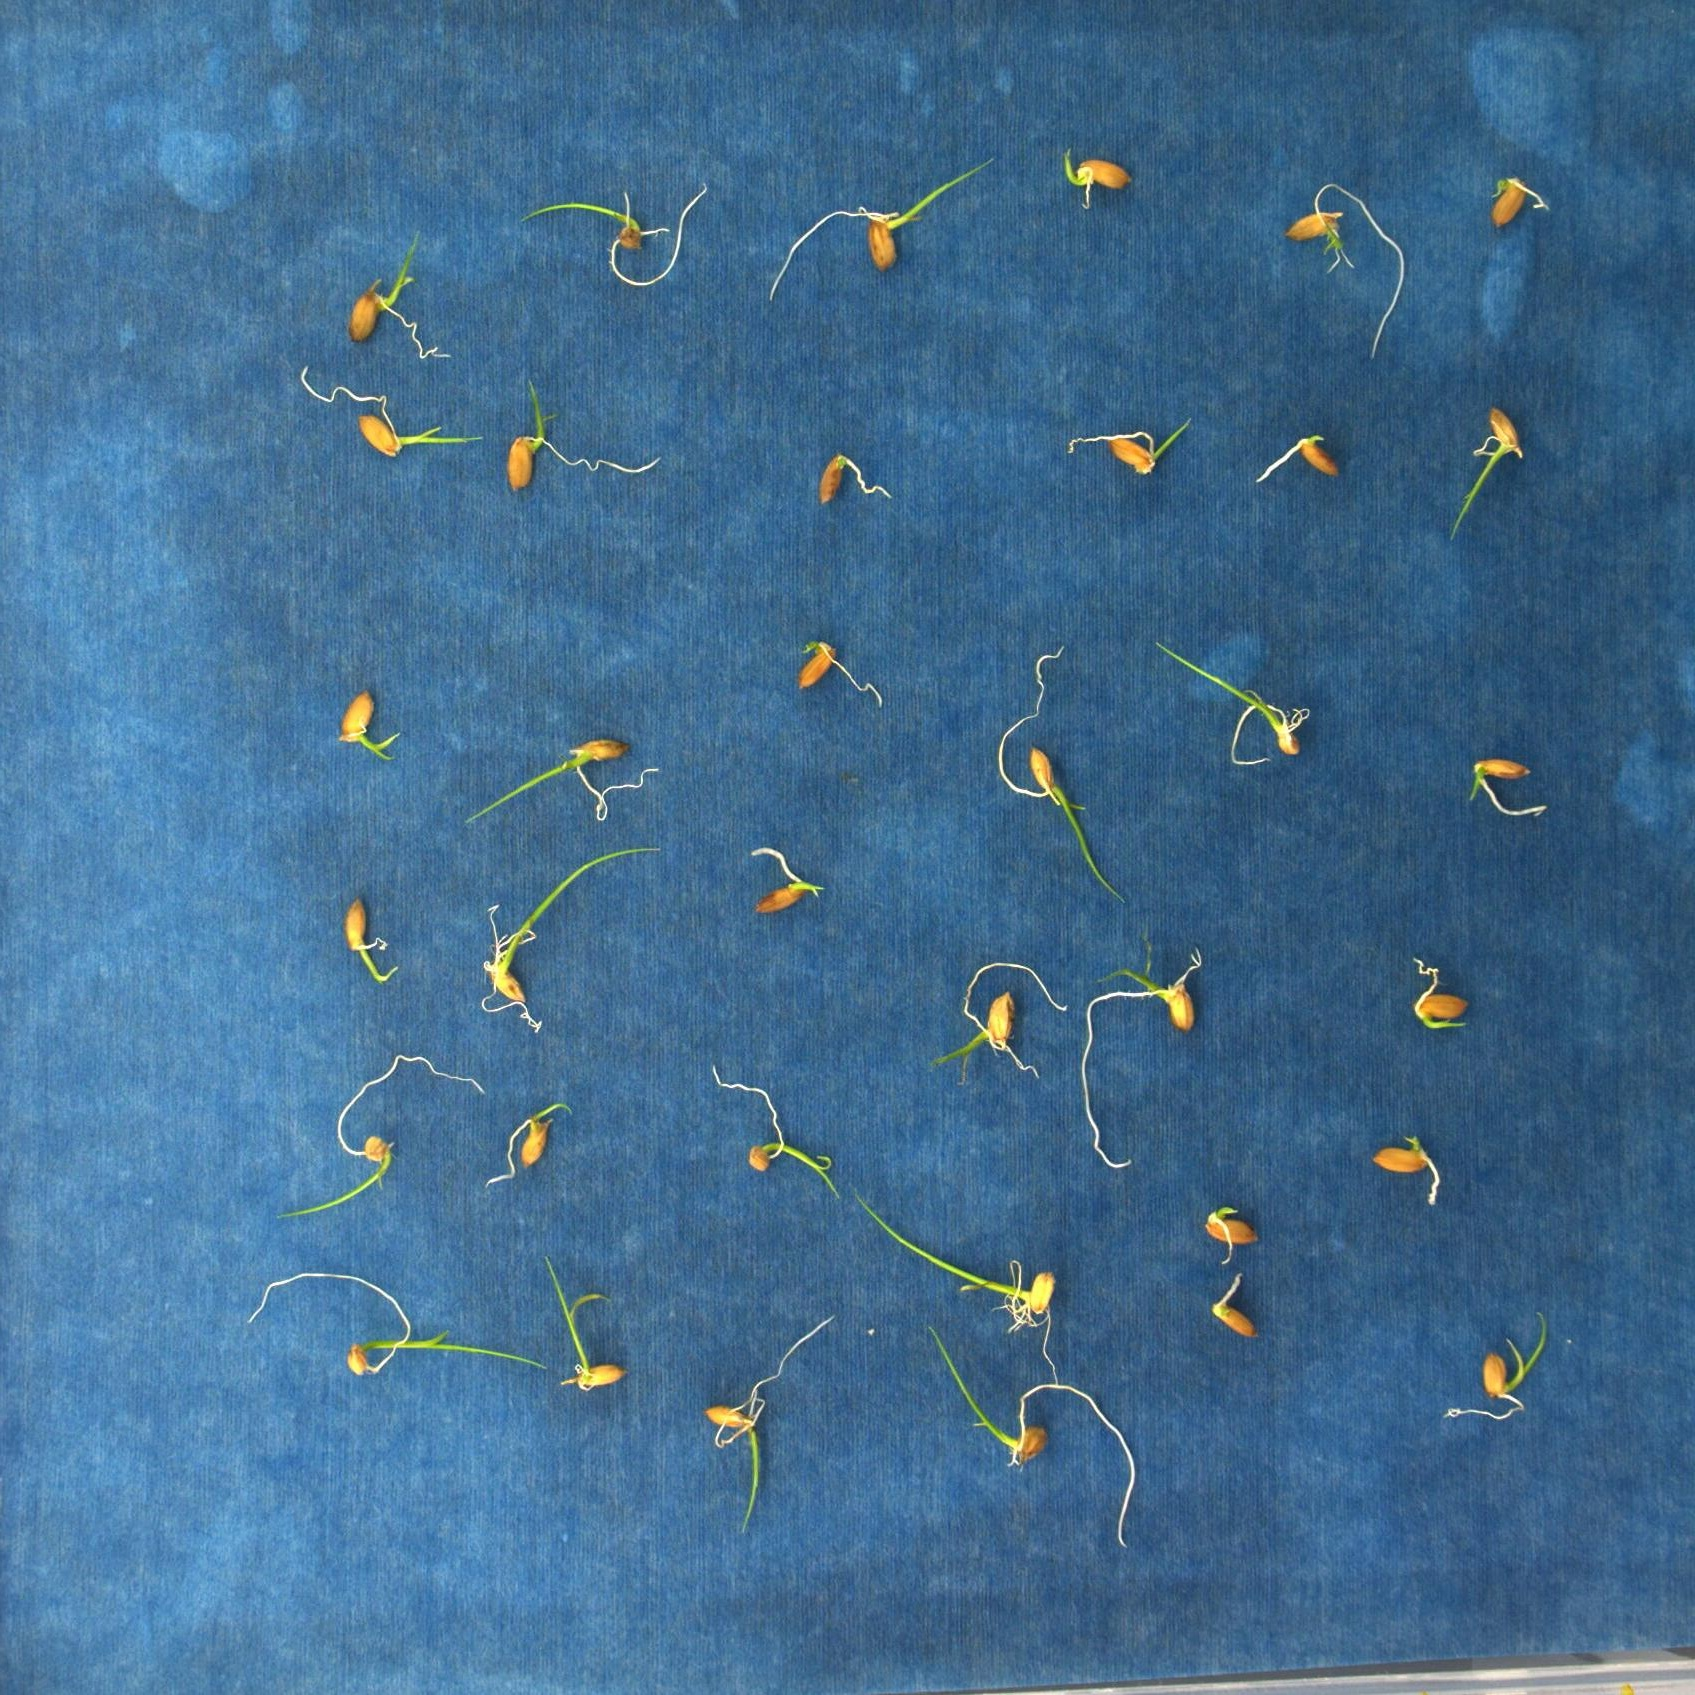not sprout: (796, 640, 885, 706), (1251, 432, 1340, 484), (1377, 1133, 1444, 1203), (1482, 171, 1546, 230), (815, 452, 886, 501), (1212, 1273, 1254, 1341), (1205, 1208, 1259, 1257)
sprout: (927, 1319, 1132, 1551), (851, 1183, 1063, 1386), (764, 152, 1003, 304), (273, 1049, 481, 1222), (480, 844, 667, 1034), (997, 646, 1128, 906), (248, 1271, 546, 1377), (1080, 948, 1205, 1170), (709, 1312, 830, 1530), (1150, 640, 1312, 765), (1287, 182, 1400, 355), (525, 185, 717, 284), (506, 373, 663, 492), (708, 1068, 843, 1200), (300, 363, 483, 459), (466, 737, 660, 826), (930, 964, 1069, 1083), (341, 231, 453, 365), (1439, 1310, 1552, 1419), (539, 1254, 627, 1388), (1445, 400, 1520, 542), (1065, 411, 1191, 477), (494, 1093, 567, 1187), (750, 847, 826, 920), (345, 897, 404, 983), (328, 691, 400, 759), (1465, 757, 1546, 816), (1059, 147, 1133, 208), (1412, 955, 1465, 1028)
